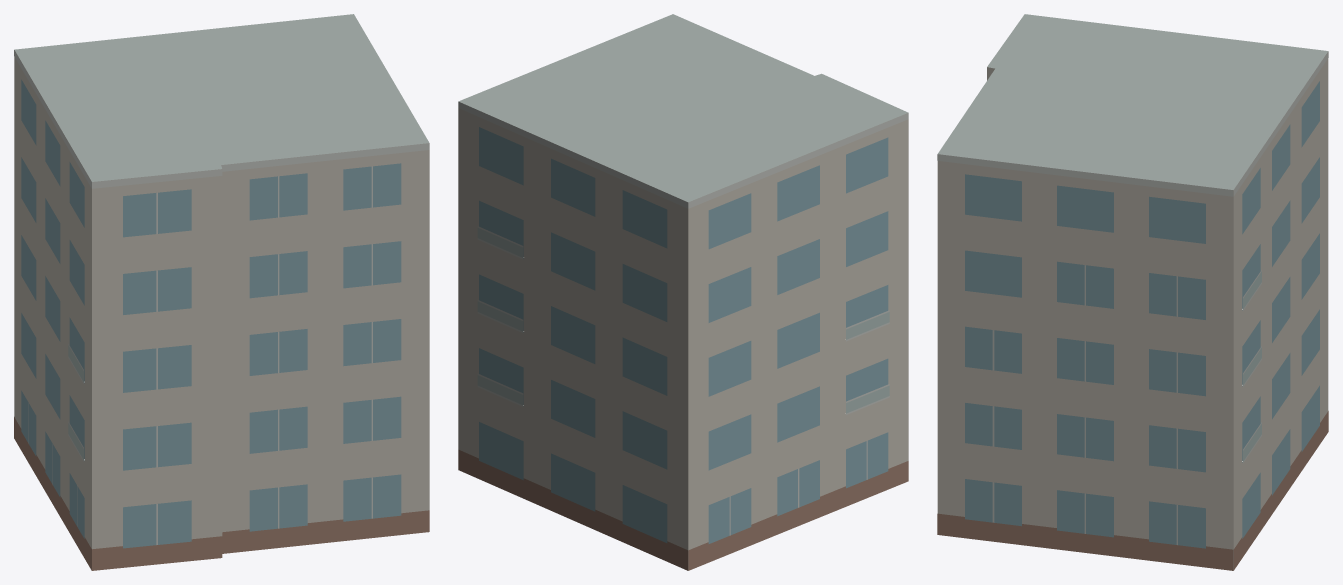
Rendered from survey-upis-32880099.glb.
The picture shows the model from 3 angles, left to right: view 1: azimuth 30°, elevation 25°; view 2: azimuth 150°, elevation 25°; view 3: azimuth 270°, elevation 25°; orthographic projection. The views are drawn at different scales.
Parts seen in each view (by area): view 1: survey-upis-32880099.tmp; view 2: survey-upis-32880099.tmp; view 3: survey-upis-32880099.tmp.
Part boxes in pixels (left/top/right/bottom): survey-upis-32880099.tmp: left=14, top=14, right=429, bottom=570; survey-upis-32880099.tmp: left=458, top=14, right=908, bottom=570; survey-upis-32880099.tmp: left=937, top=14, right=1328, bottom=570.
Bounding box in the file's own units: 13.8 × 13.9 × 12.95.
